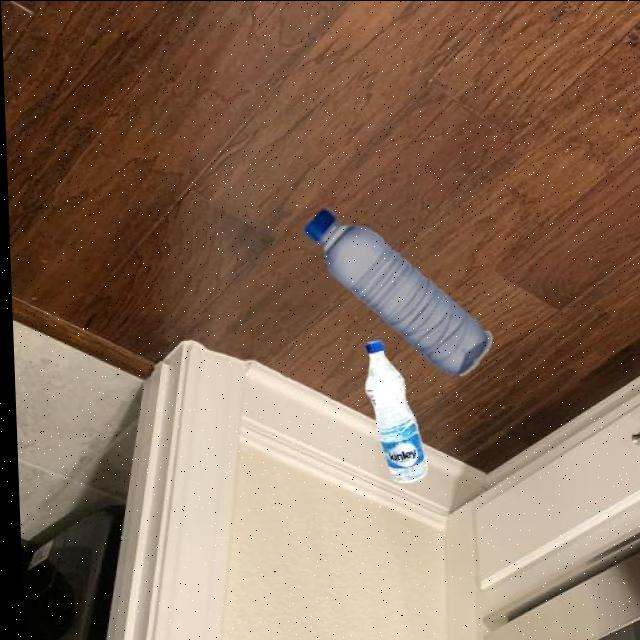bottle: (301, 208, 492, 378), (360, 340, 425, 484)
